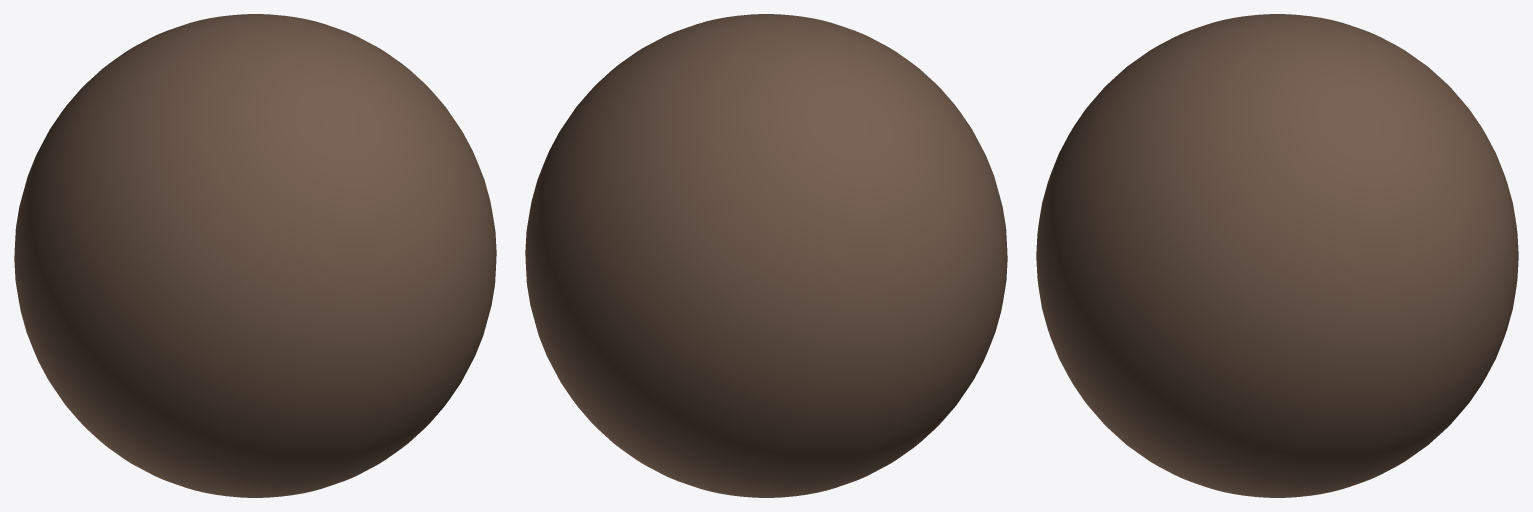
Rendered from Saturn.fbx.
3 views of the same model, side by side, from view 1: azimuth 30°, elevation 25°; view 2: azimuth 150°, elevation 25°; view 3: azimuth 270°, elevation 25° (orthographic).
Parts seen in each view (by area): view 1: Saturn; view 2: Saturn; view 3: Saturn.
Part boxes in pixels (<box>): Saturn: <box>14,14,496,497</box>; Saturn: <box>525,14,1007,497</box>; Saturn: <box>1036,14,1518,497</box>.
Size of the model in its own units: 5.04 by 5.08 by 5.04.
